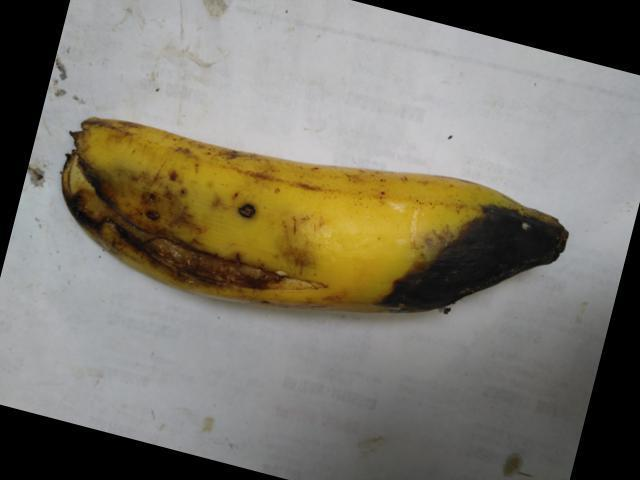rotten: (67, 132, 327, 306), (372, 150, 569, 303)
